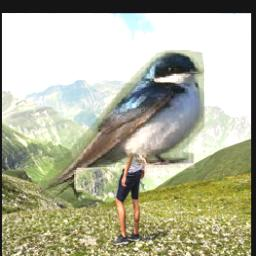Swallow: (41, 51, 204, 205)
